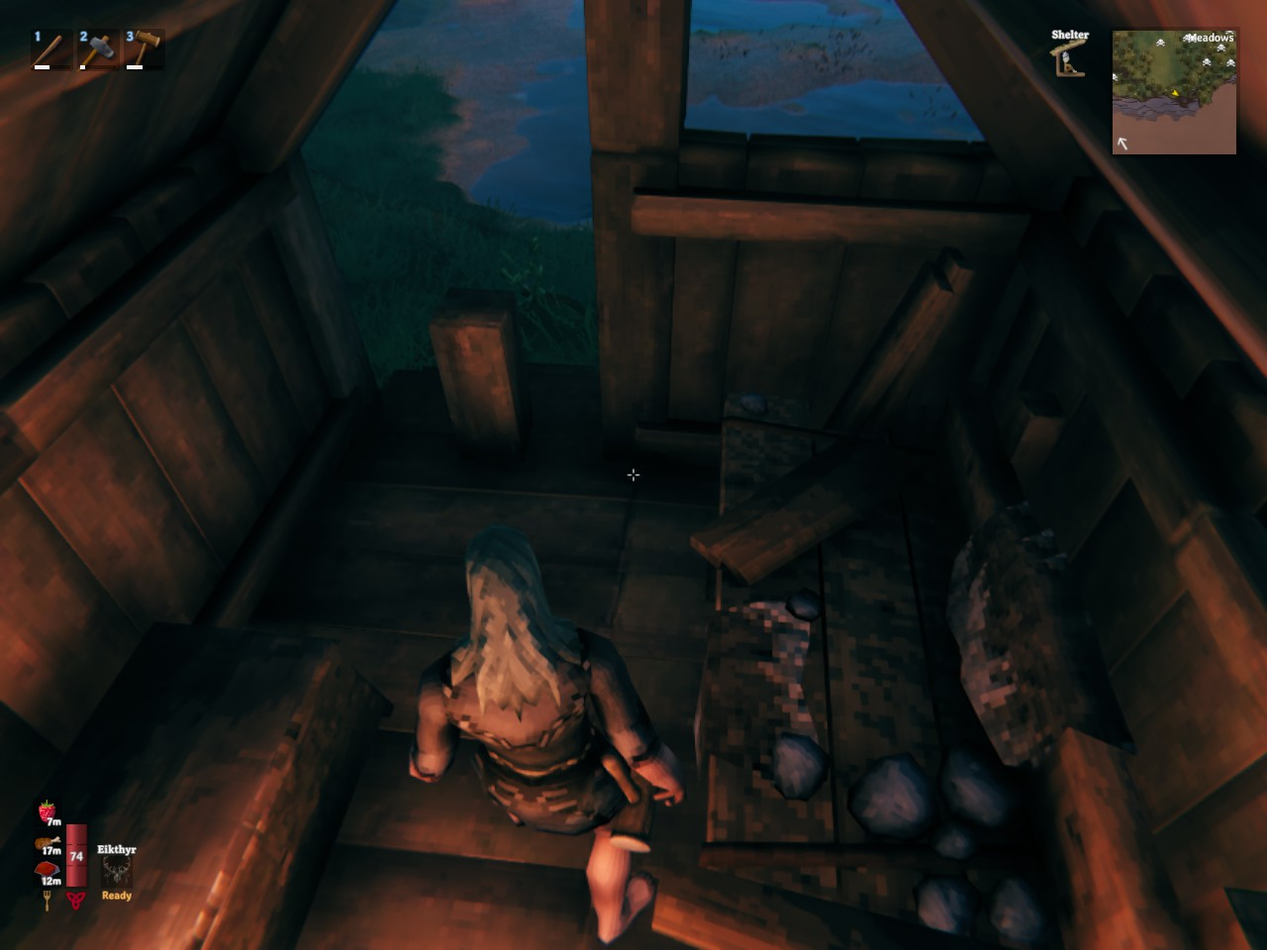Chest: (5, 617, 395, 949)
Food Indicator: (36, 797, 63, 891)
Health Bar: (63, 820, 90, 891)
Hotbar: (25, 21, 398, 78)
Status Indicator: (1036, 21, 1106, 87)
Workbench: (656, 257, 1263, 949)
